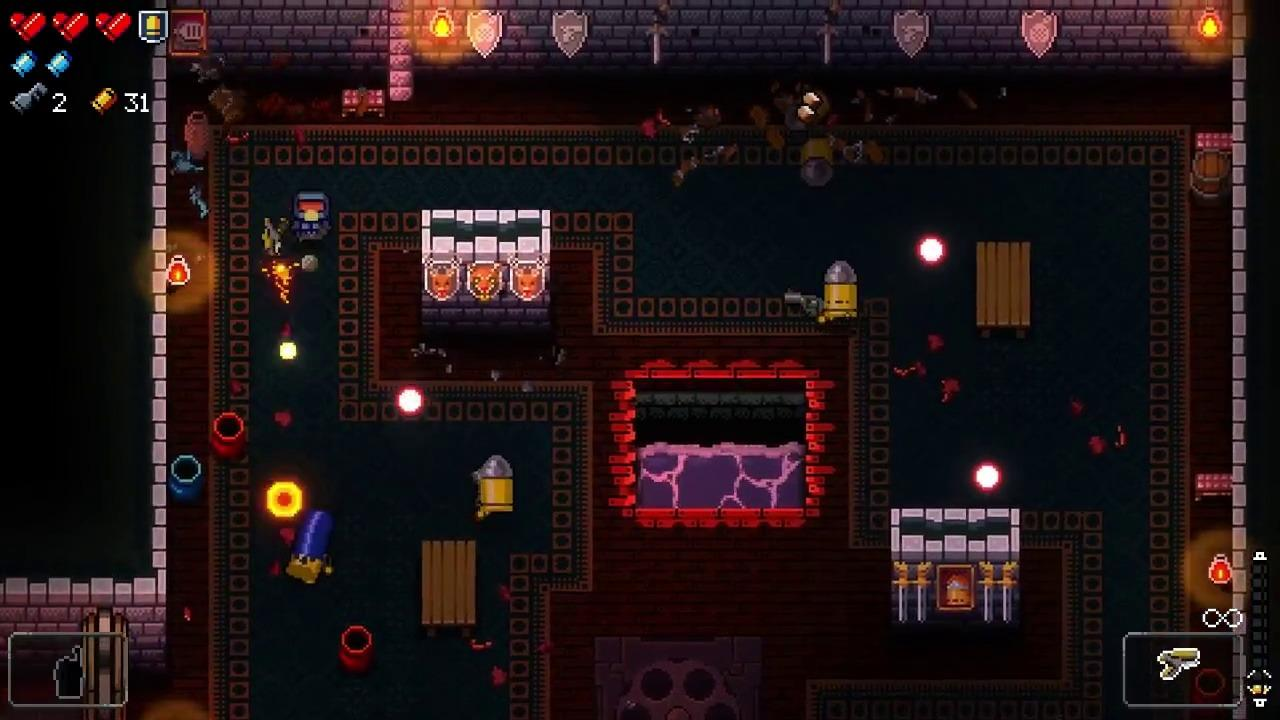blue_shotgun_kin: (286, 510, 332, 585)
bullet: (972, 461, 1003, 491), (917, 236, 947, 264), (397, 385, 424, 415)
bullet_kin: (823, 258, 859, 321), (480, 454, 514, 513)
dead_bullet_kin: (802, 137, 835, 189)
locked_door: (81, 609, 127, 720)
player: (294, 190, 331, 243)
table: (421, 540, 476, 637), (977, 242, 1031, 338)
water_pit: (607, 356, 836, 530)
